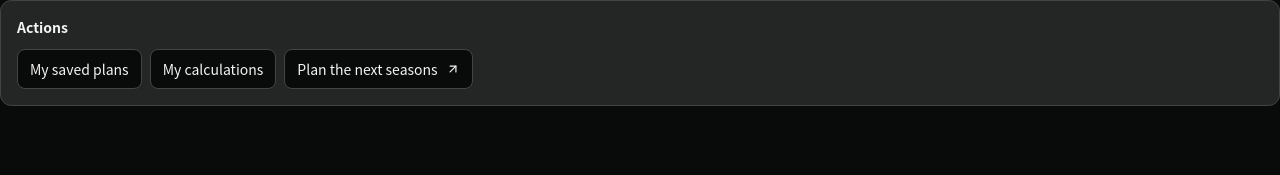
does not offer progress refresh before the first calculation
The width and height of the screenshot is (1280, 175).
Step 1. Click the button "My calculations" → (213, 69), box top-left (150, 49), bottom-right (276, 89)
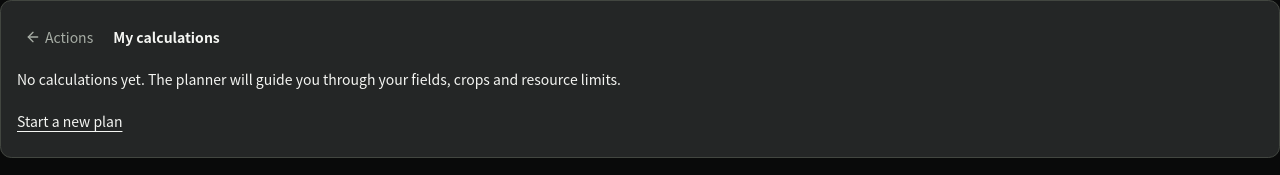
Result: the text "No calculations yet" is shown at top-left (17, 69), bottom-right (621, 89)
